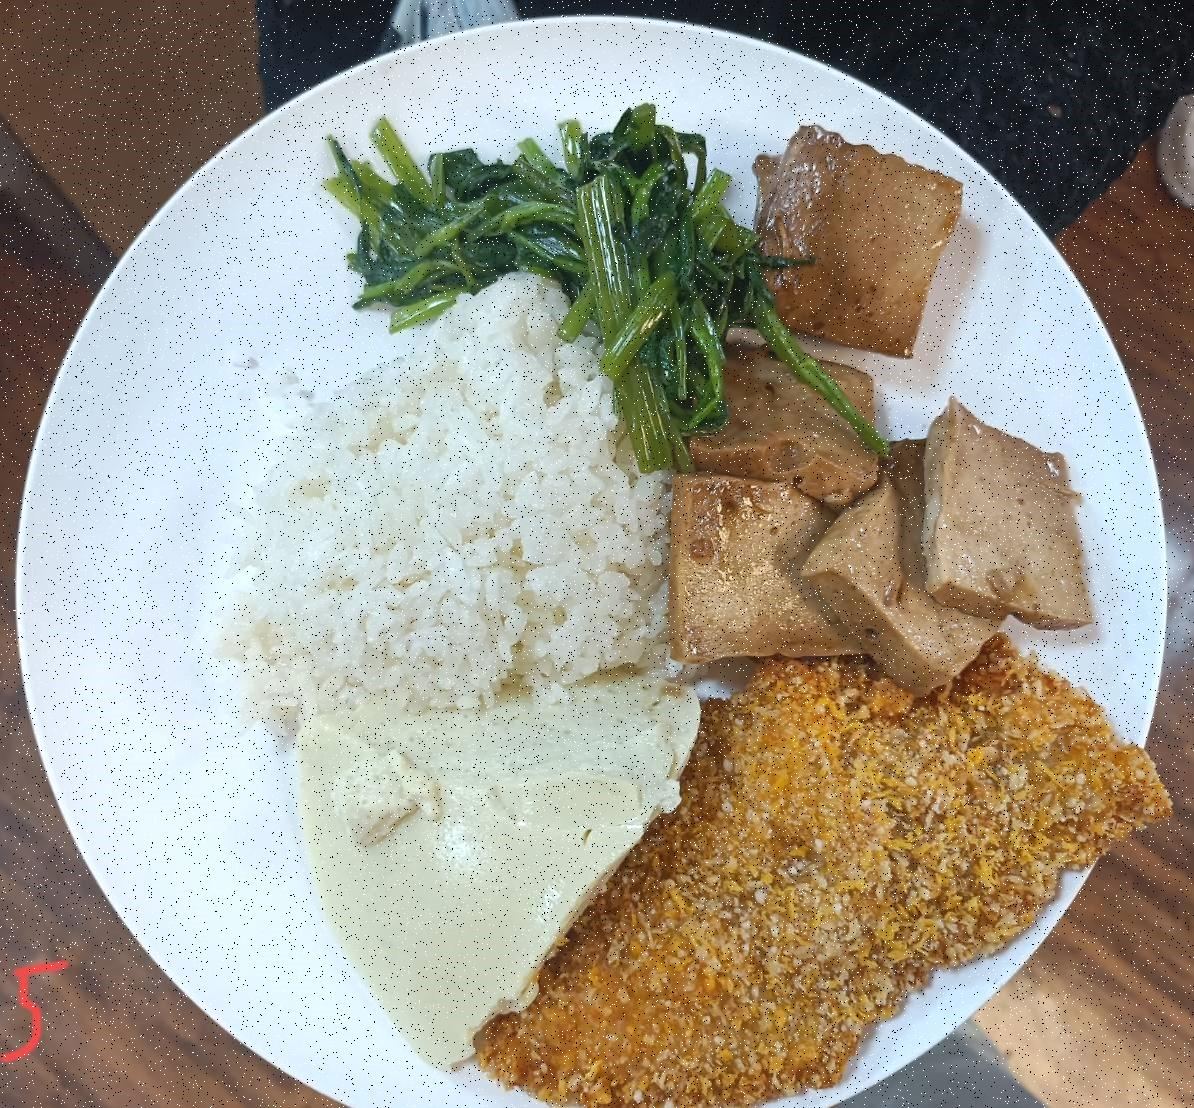chicken steak: (499, 653, 1120, 1100)
plate: (3, 18, 1171, 1098)
side dish: (687, 140, 1073, 664), (279, 678, 708, 1062), (353, 123, 753, 349)
white rice: (230, 303, 670, 702)
